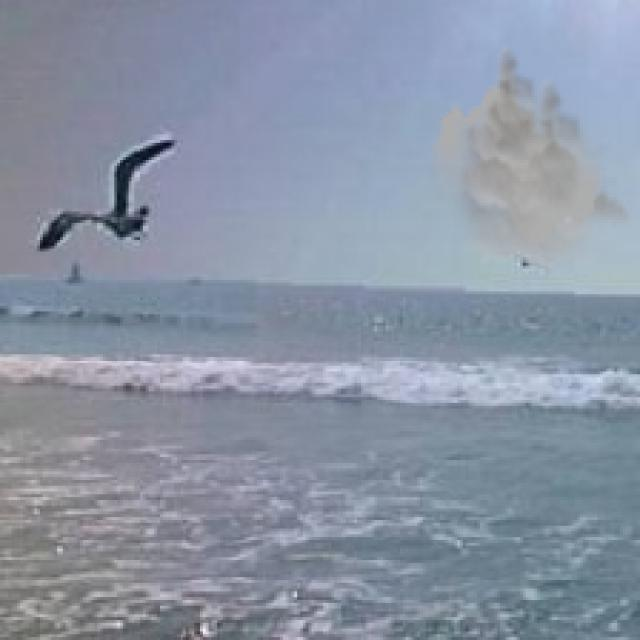smoke: (428, 40, 632, 277)
